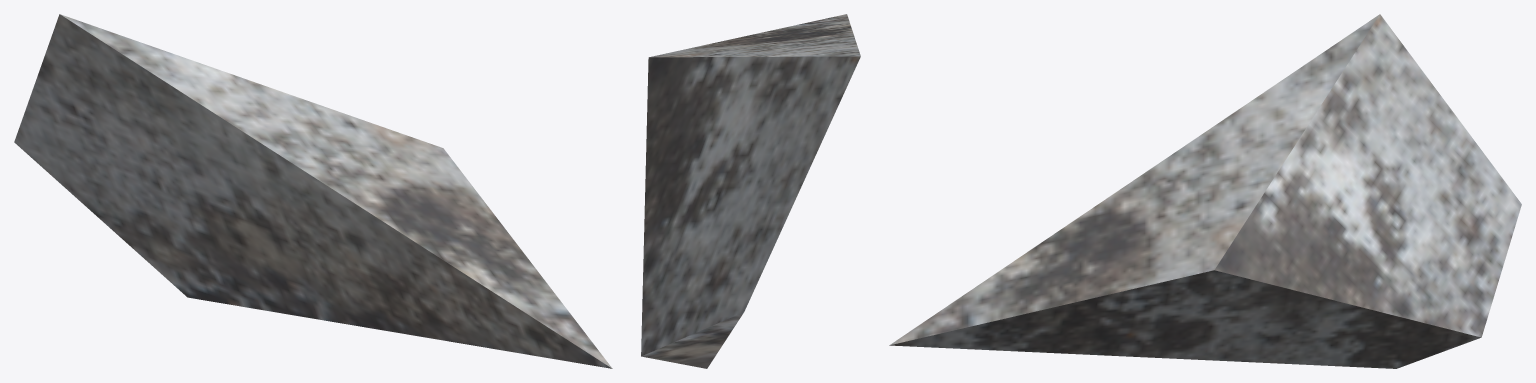
Rendered from Asteroid_Large_001_02_012_03_019.fbx.
The picture shows the model from 3 angles, left to right: view 1: azimuth 30°, elevation 25°; view 2: azimuth 150°, elevation 25°; view 3: azimuth 270°, elevation 25°; orthographic projection. The views are drawn at different scales.
Visible parts, largest first — view 1: Asteroid_Large_001_02_012_03_019; view 2: Asteroid_Large_001_02_012_03_019; view 3: Asteroid_Large_001_02_012_03_019.
Part boxes in pixels (box(x1,y1,x2,y2)): Asteroid_Large_001_02_012_03_019: box(14, 14, 612, 368); Asteroid_Large_001_02_012_03_019: box(641, 14, 860, 368); Asteroid_Large_001_02_012_03_019: box(889, 14, 1521, 368).
Size of the model in its own units: 2.95 by 3.12 by 6.08.
